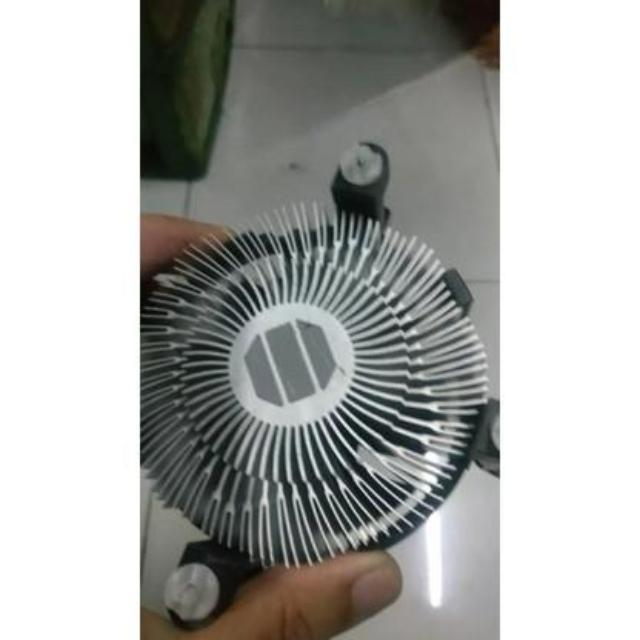CPU_Fan: (144, 153, 498, 610)
